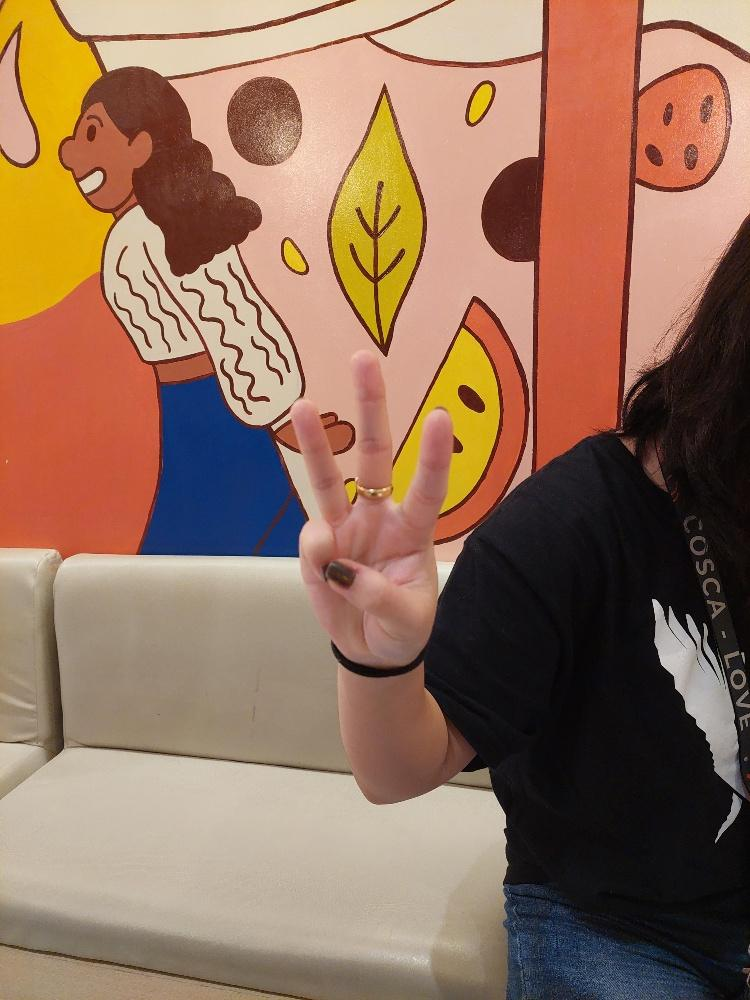w: (285, 345, 454, 668)
